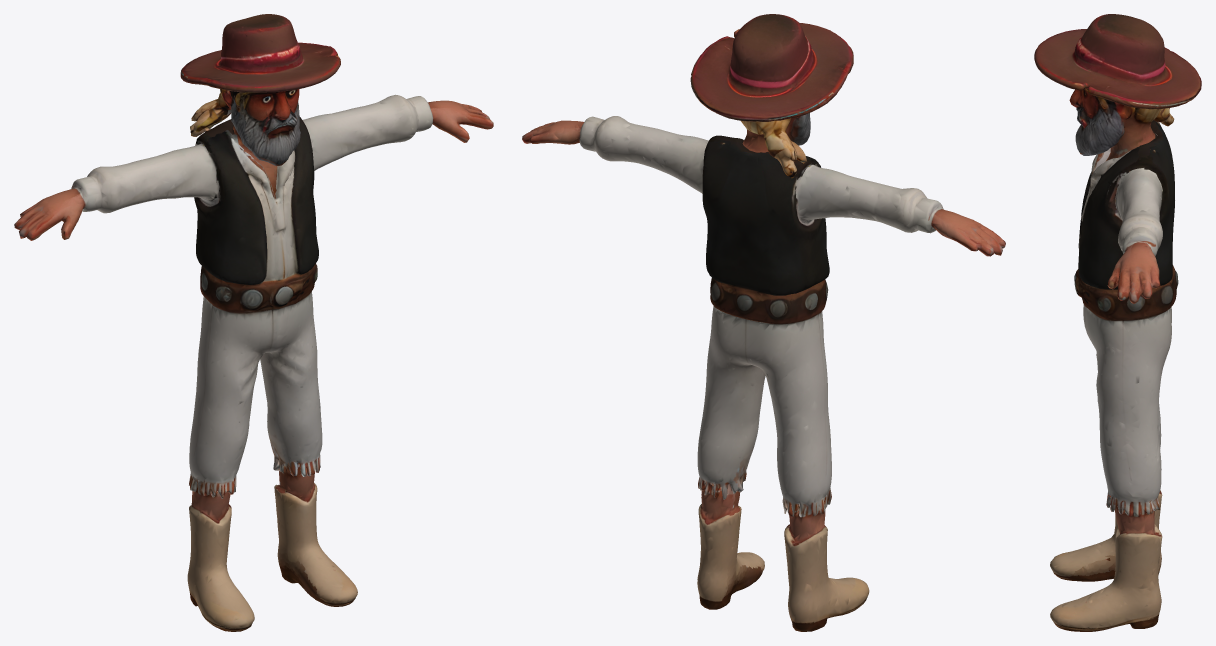
File: gaucho_1.glb
3 views of the same model, side by side, from view 1: azimuth 30°, elevation 25°; view 2: azimuth 150°, elevation 25°; view 3: azimuth 270°, elevation 25° (orthographic).
Visible parts, largest first — view 1: gaucho_1; view 2: gaucho_1; view 3: gaucho_1.
Part boxes in pixels (x1,y1,x2,y2): gaucho_1: [14, 14, 493, 631]; gaucho_1: [522, 14, 1005, 631]; gaucho_1: [1034, 14, 1201, 631].
Size of the model in its own units: 1.48 by 1.74 by 0.4547.
Materials: 1 (1 with a texture image).
